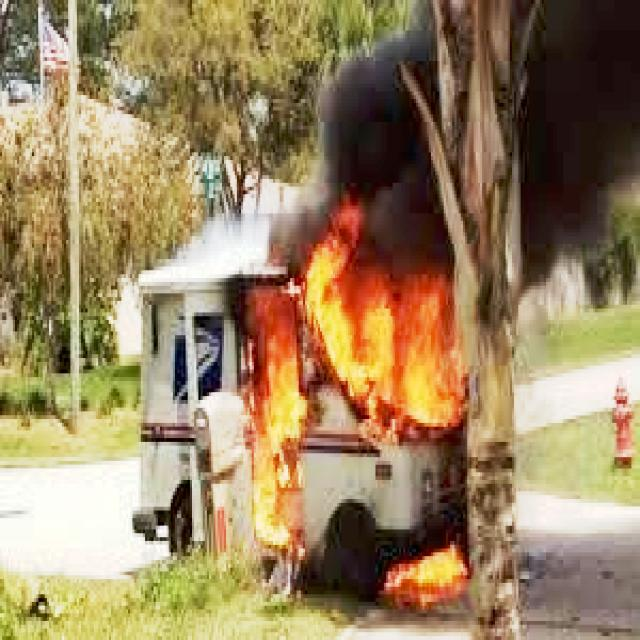api: (257, 218, 466, 538), (379, 527, 475, 618)
